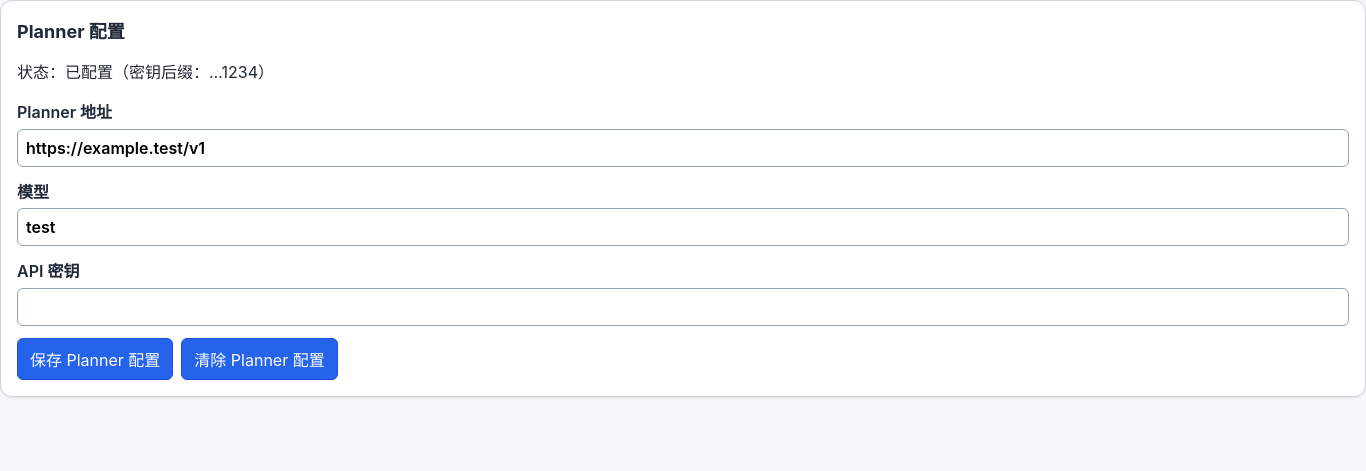
PlannerSettings › clears the password after a failed save without disclosing the request error
Type "failed-secret" into the password field labelled "API 密钥" at (683, 307), box [17,288,1349,326]
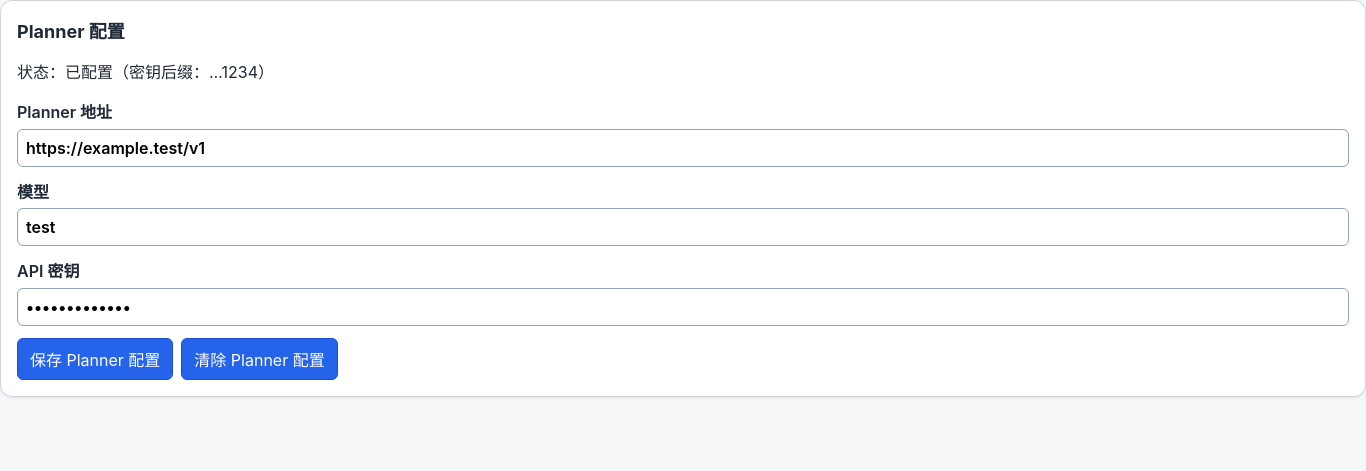
Click the button "保存 Planner 配置" at (95, 359), box [17,338,173,380]
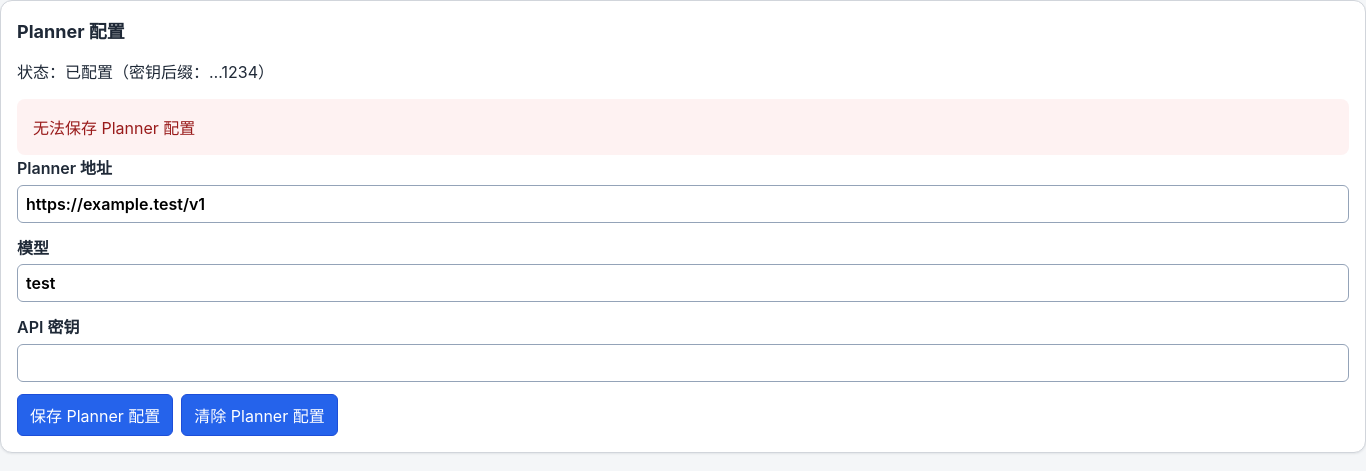
Now the text "无法保存 Planner 配置" is shown, box [17,99,1349,155]
